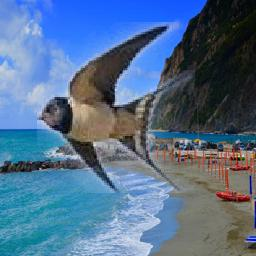Swallow: (37, 23, 195, 194)
